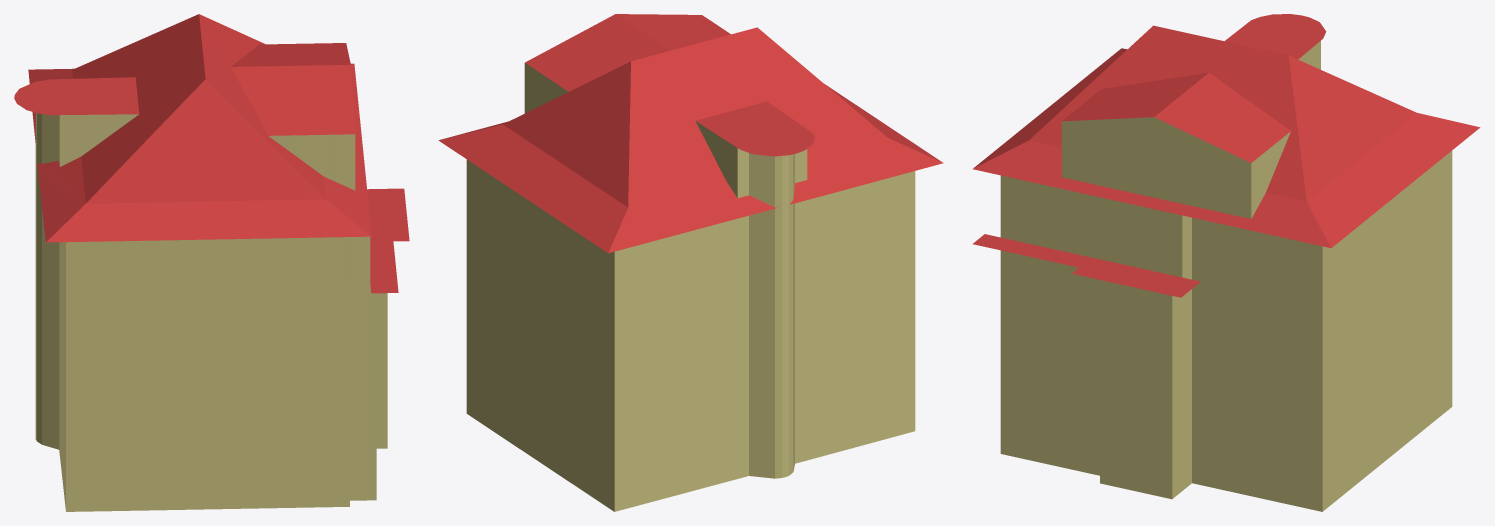
3 renders of one model, left to right at view 1: azimuth 30°, elevation 25°; view 2: azimuth 150°, elevation 25°; view 3: azimuth 270°, elevation 25°, orthographic. The views are drawn at different scales.
Visible parts, largest first — view 1: group_7, group_3, group_4, group_15, group_13, group_6, group_11, group_5, group_9, group_10; view 2: group_7, group_3, group_4, group_15, group_6, group_13, group_5; view 3: group_7, group_11, group_3, group_5, group_4, group_9, group_6, group_13, group_10.
Boxes of the visible parts, box(x1,y1,x2,y2) form: group_7: box(37, 165, 370, 511); group_3: box(35, 14, 371, 242); group_4: box(231, 43, 355, 135); group_15: box(35, 113, 138, 441); group_13: box(14, 77, 139, 115); group_6: box(28, 64, 370, 242); group_11: box(370, 285, 387, 500); group_5: box(231, 68, 355, 190); group_9: box(367, 188, 409, 293); group_10: box(367, 188, 408, 292); group_7: box(466, 159, 915, 511); group_3: box(438, 27, 943, 252); group_4: box(525, 14, 730, 91); group_15: box(695, 121, 807, 478); group_6: box(440, 90, 939, 253); group_13: box(695, 101, 814, 156); group_5: box(524, 63, 568, 113); group_7: box(1000, 150, 1452, 511); group_11: box(1000, 250, 1182, 499); group_3: box(972, 25, 1480, 247); group_5: box(1061, 117, 1290, 218); group_4: box(1062, 72, 1290, 162); group_9: box(973, 234, 1200, 297); group_6: box(977, 48, 1477, 247); group_13: box(1224, 14, 1326, 59); group_10: box(973, 235, 1198, 297).
Bounding box in the file's own units: 16.95 × 18.2 × 15.13.
